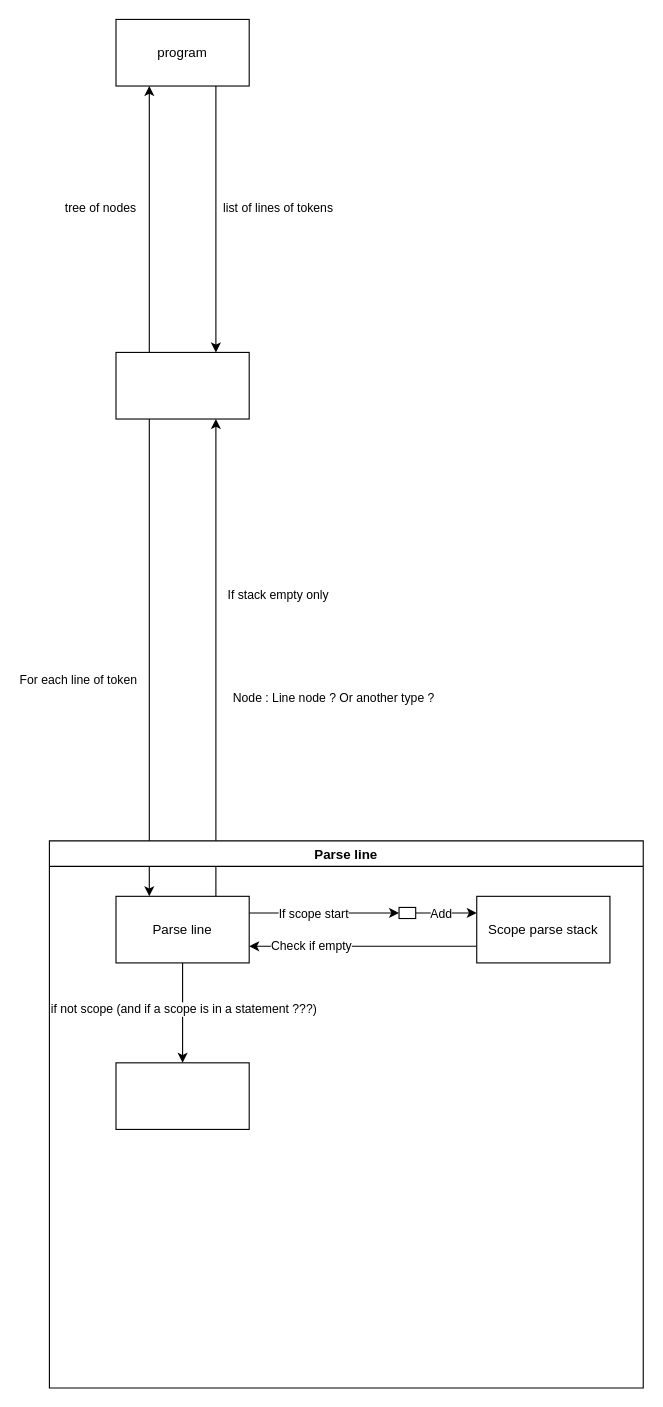
Image size: 663x1407. Some labels were removed from this diagram. The box of each missing label's shape, as (x1, y1, x2, y2) in pixels:
Parse statement: (115, 1062, 249, 1129)
Parser: (115, 351, 249, 419)
